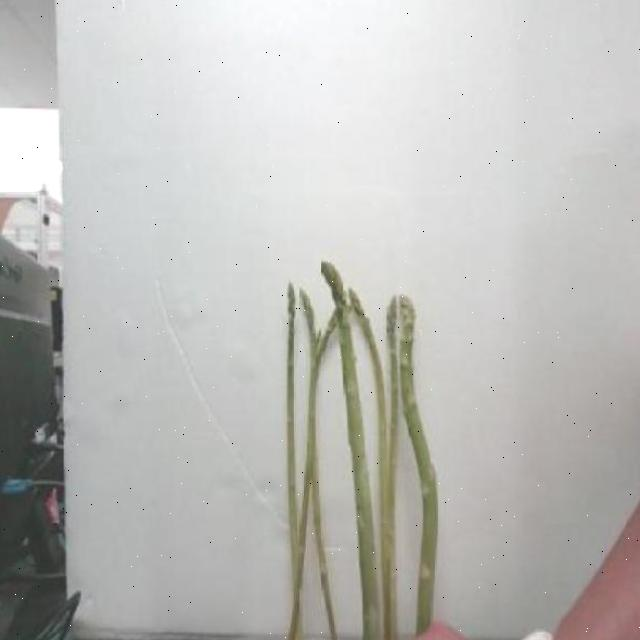aspargus: (397, 296, 442, 634)
